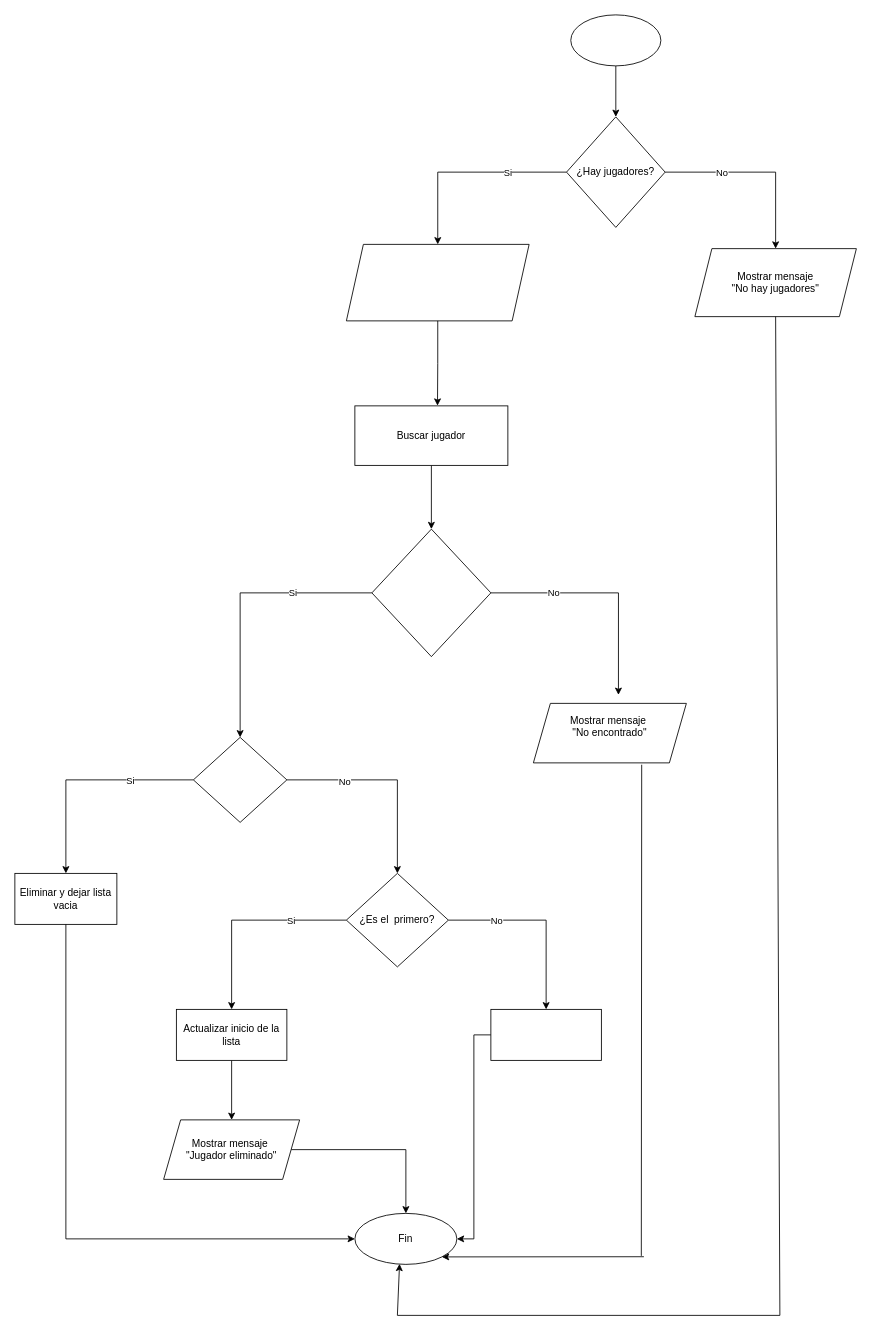
Some shapes in this 871 by 1337 pixel diagram are drawn without their labels. The box of each missing label's shape, as (x1, y1, x2, y2) in pixels:
Inicio: (570, 14, 661, 66)
Pedir Id del jugador a eliminar: (346, 244, 529, 321)
Quitar jugador de la lista: (490, 1009, 601, 1060)
¿Es el único jugador?: (193, 737, 287, 822)
¿Jugador encontrado?: (371, 528, 491, 657)
